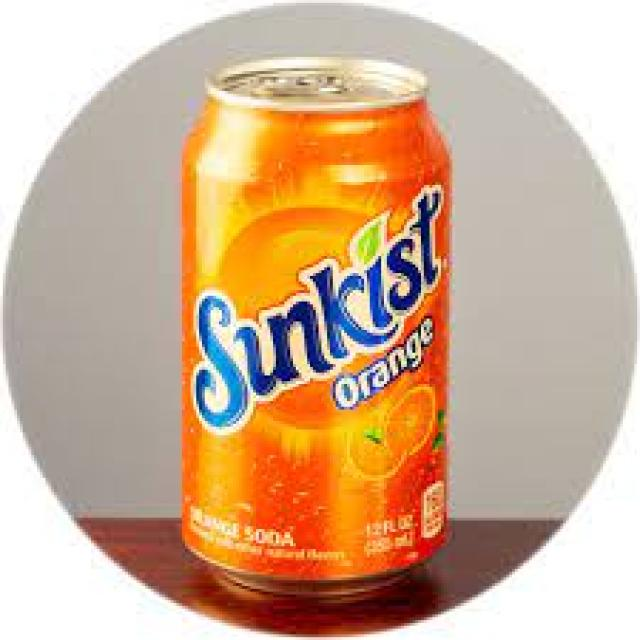Cans: (174, 48, 464, 603)
